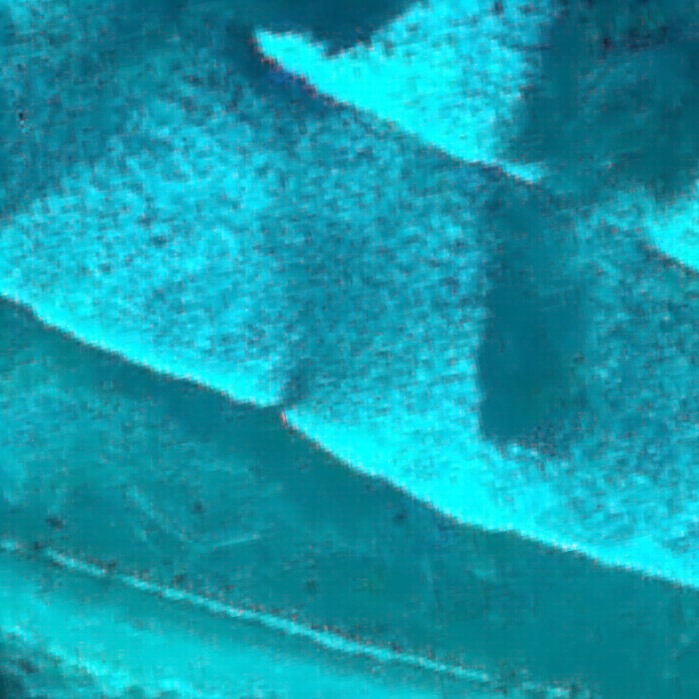rip_current: (441, 48, 654, 480)
